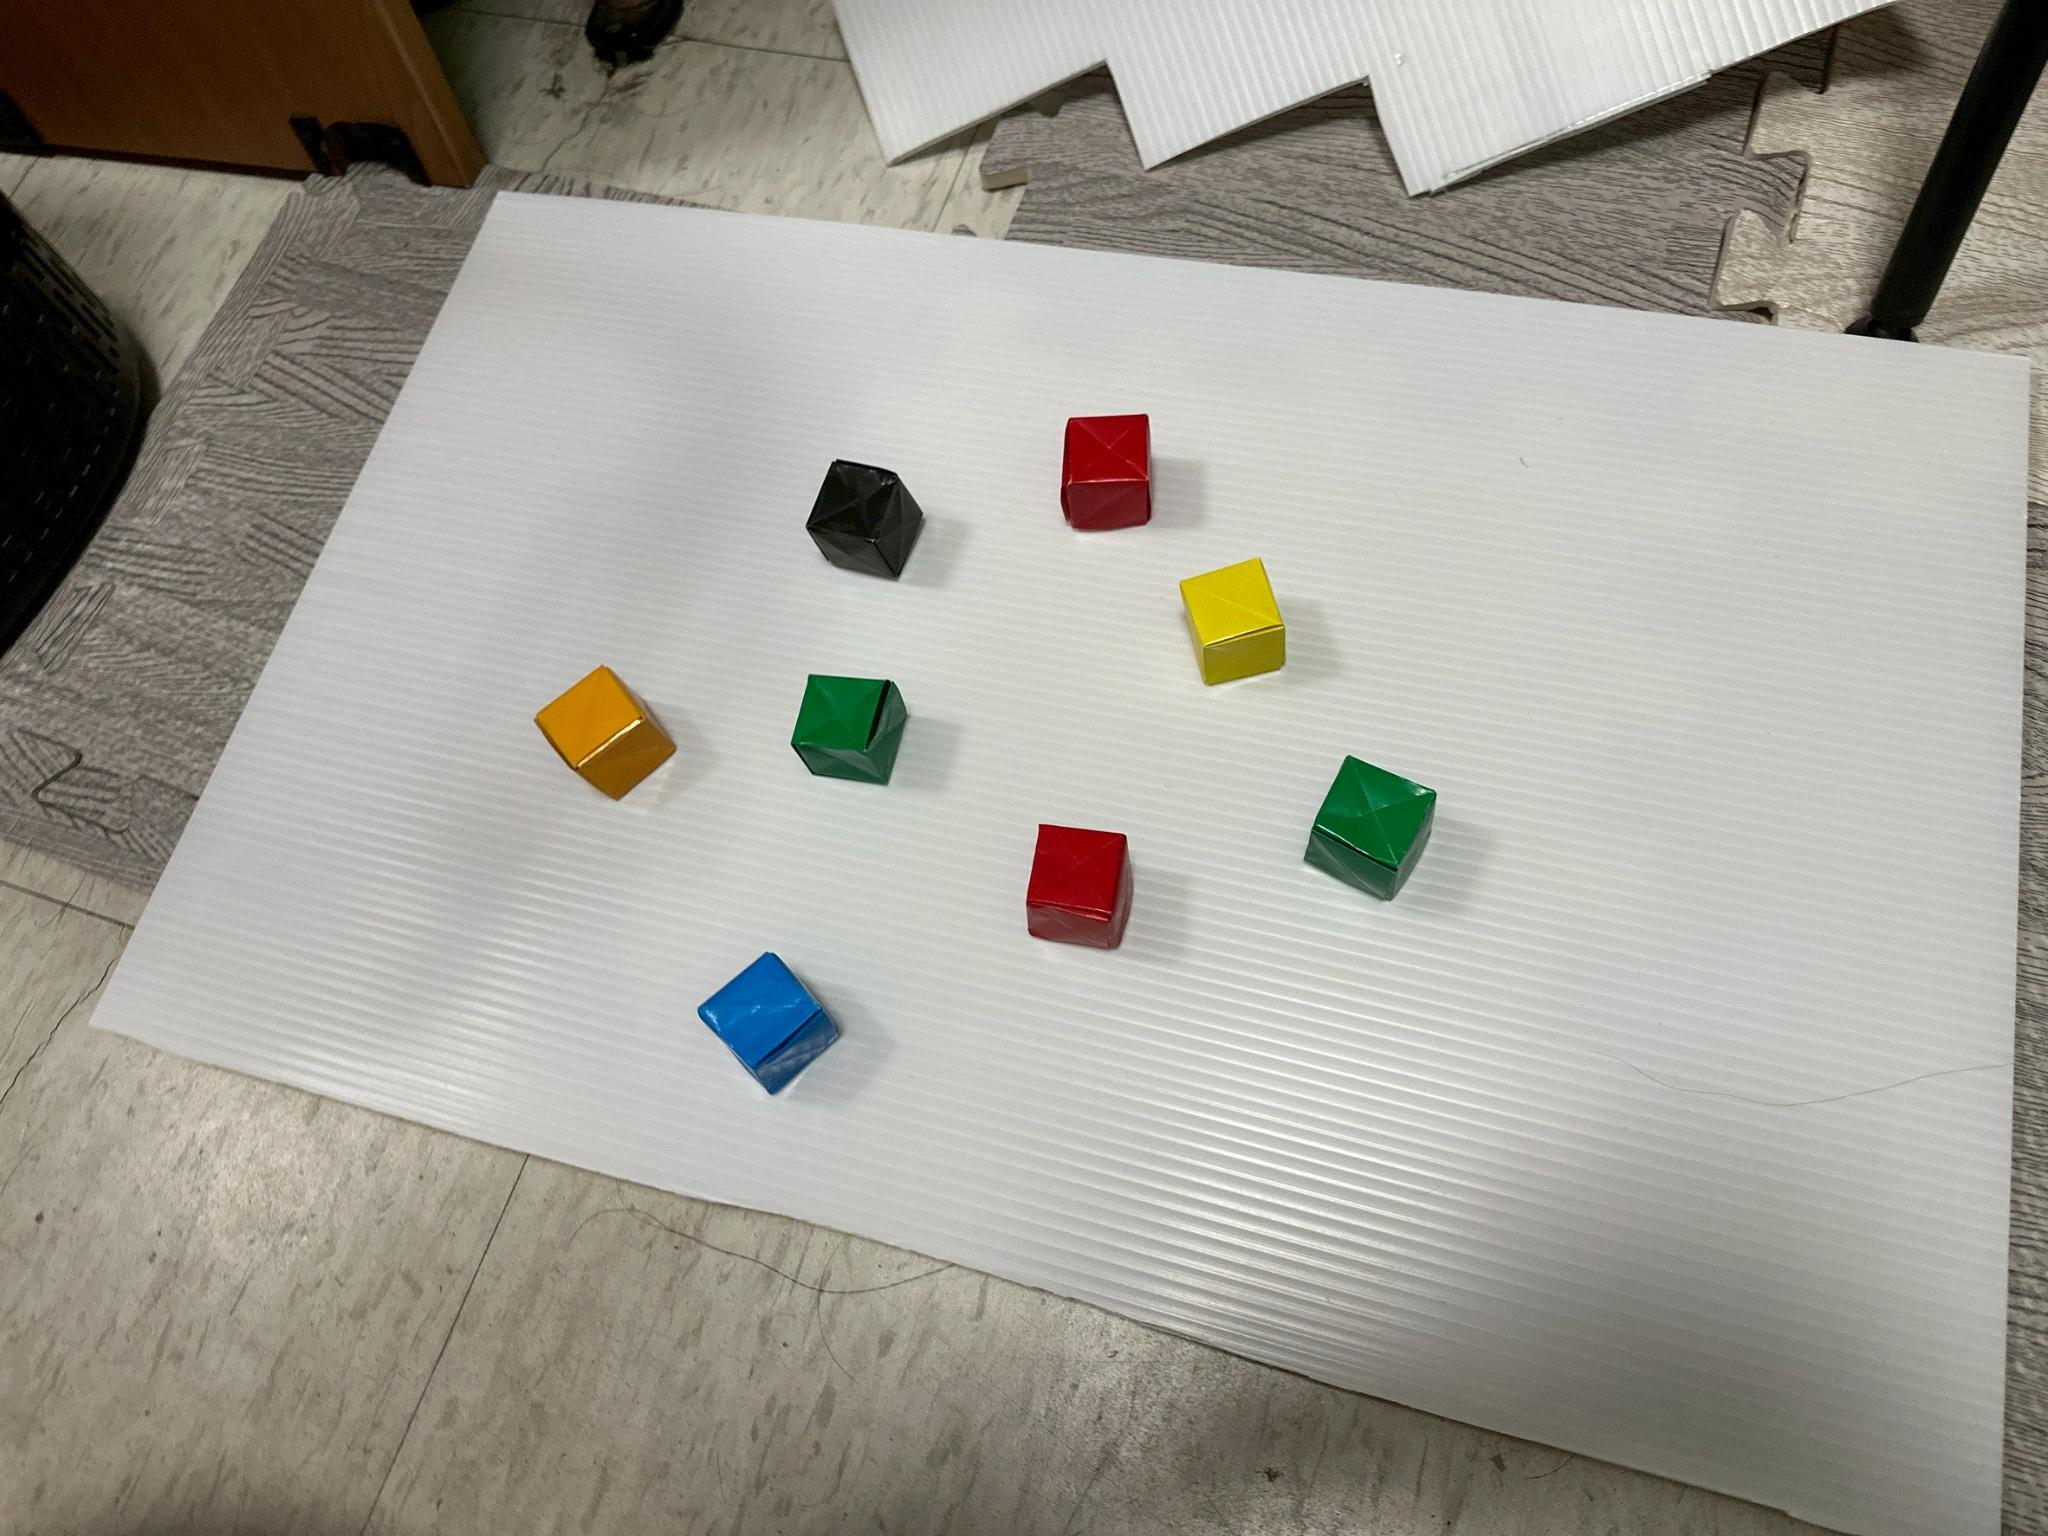cube: (698, 954, 839, 1096), (535, 666, 674, 799), (1306, 757, 1435, 899), (806, 461, 924, 579), (1180, 560, 1284, 686), (1027, 824, 1132, 947), (792, 674, 906, 784), (1061, 415, 1150, 529)
